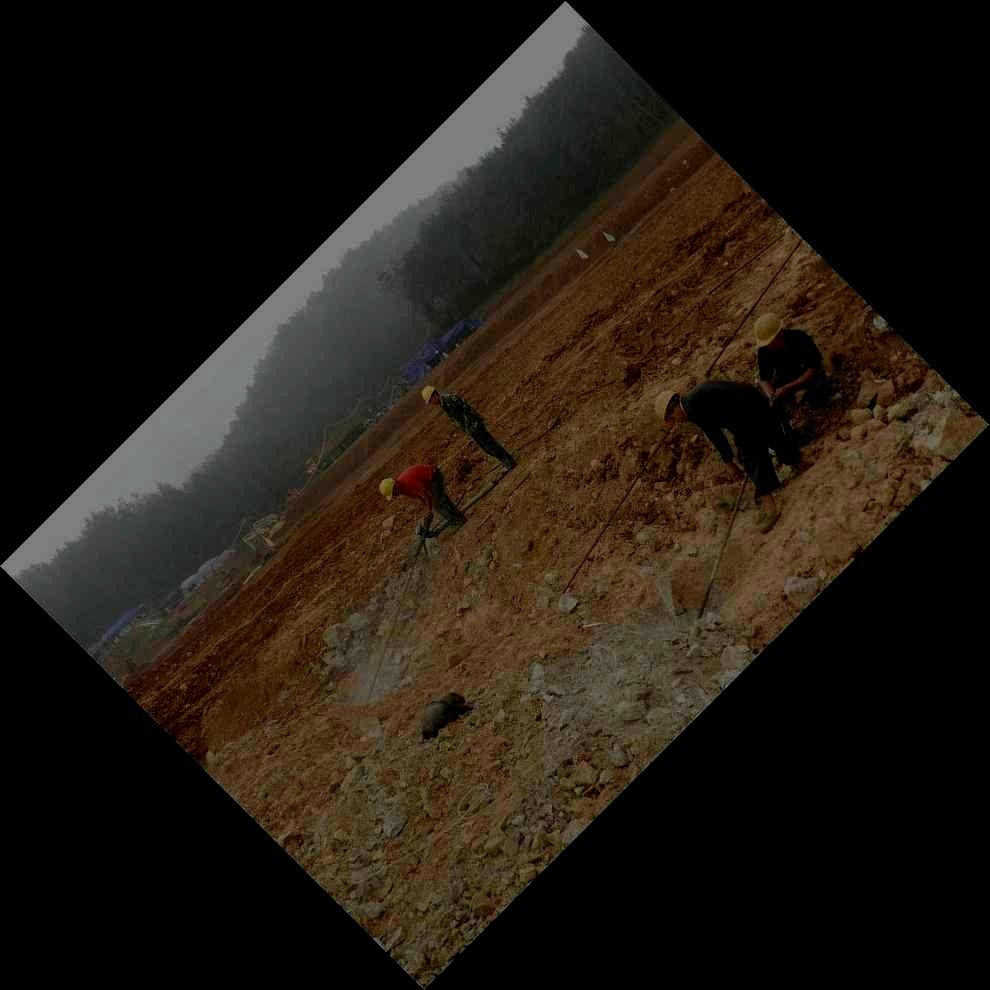helmet: (754, 312, 786, 351), (654, 389, 687, 424), (378, 477, 400, 502), (421, 384, 440, 408)
